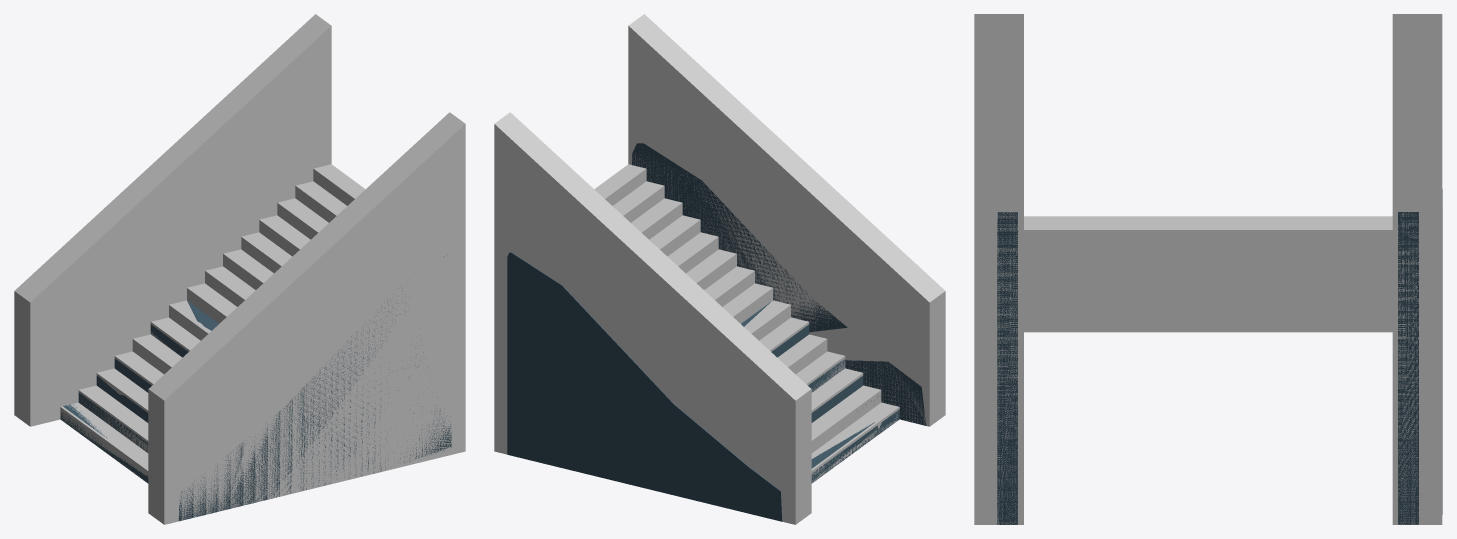
File: SM_Stair.fbx
3 views of the same model, side by side, from view 1: azimuth 30°, elevation 25°; view 2: azimuth 150°, elevation 25°; view 3: azimuth 270°, elevation 25° (orthographic). The views are drawn at different scales.
Parts seen in each view (by area): view 1: SM_Stair_ConvexHulls, SM_Stair; view 2: SM_Stair_ConvexHulls, SM_Stair; view 3: SM_Stair_ConvexHulls, SM_Stair.
Part boxes in pixels (x1=…): SM_Stair_ConvexHulls: x1=14, y1=14, x2=465, y2=524; SM_Stair: x1=60, y1=257, x2=451, y2=521; SM_Stair_ConvexHulls: x1=494, y1=14, x2=945, y2=524; SM_Stair: x1=507, y1=143, x2=926, y2=521; SM_Stair_ConvexHulls: x1=974, y1=14, x2=1442, y2=524; SM_Stair: x1=997, y1=189, x2=1442, y2=524.
Bounding box in the file's own units: 500 × 432 × 520.
2 materials, 1 textured.
